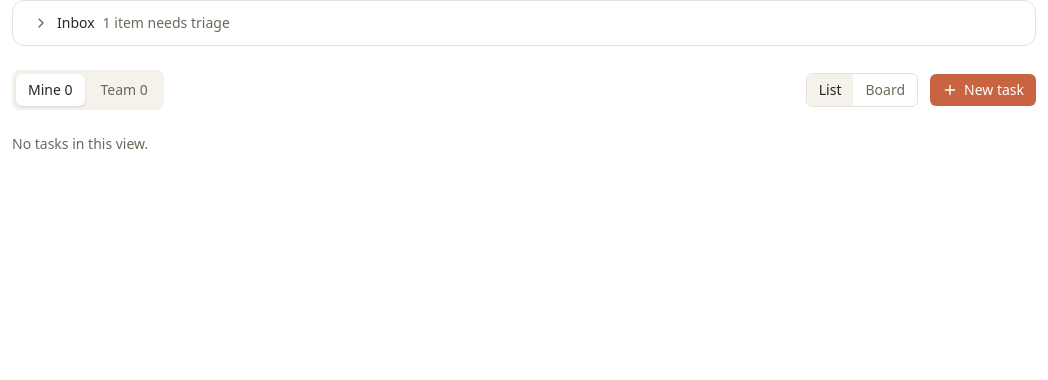
Test case: TasksSurface triage strip › surfaces proposed tasks whatever the scope is
Expected: the text "1 item needs triage" is shown, [103,13,230,33]
Click the heading "Inbox 1 item needs triage".
click(131, 22)  # box [33,13,230,32]
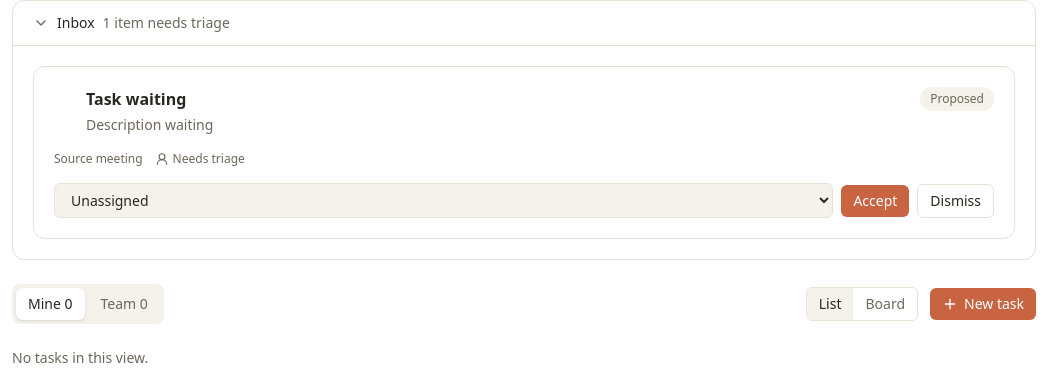
Expected: the link "Task waiting" is shown, [86,88,186,110]
